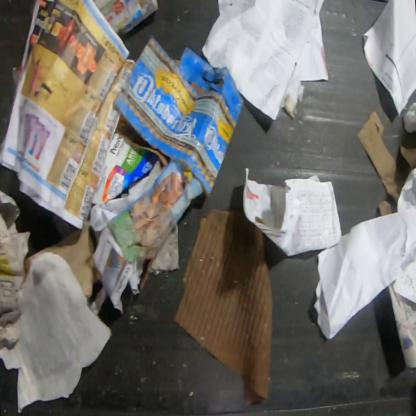cardboard: (113, 36, 244, 197), (174, 210, 274, 402), (25, 226, 103, 303), (358, 111, 415, 202), (92, 132, 160, 205)
soft_plastic: (12, 66, 22, 107)
